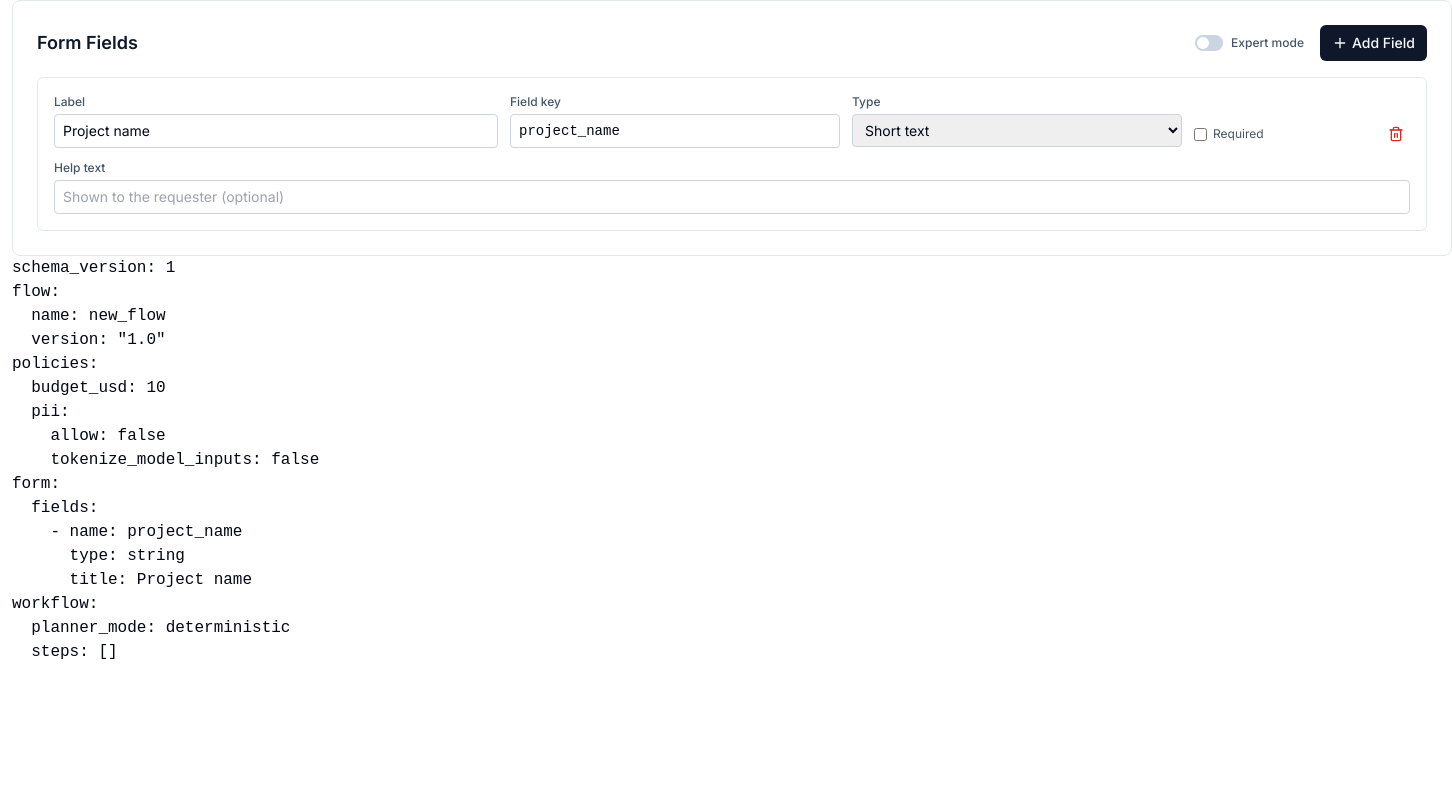
Test case: Intake form editor — business mode › long text compiles to a textarea widget in YAML
Select "Long text" in the dropdown named "Field type" at x=1017, y=130, box [852, 114, 1182, 147]
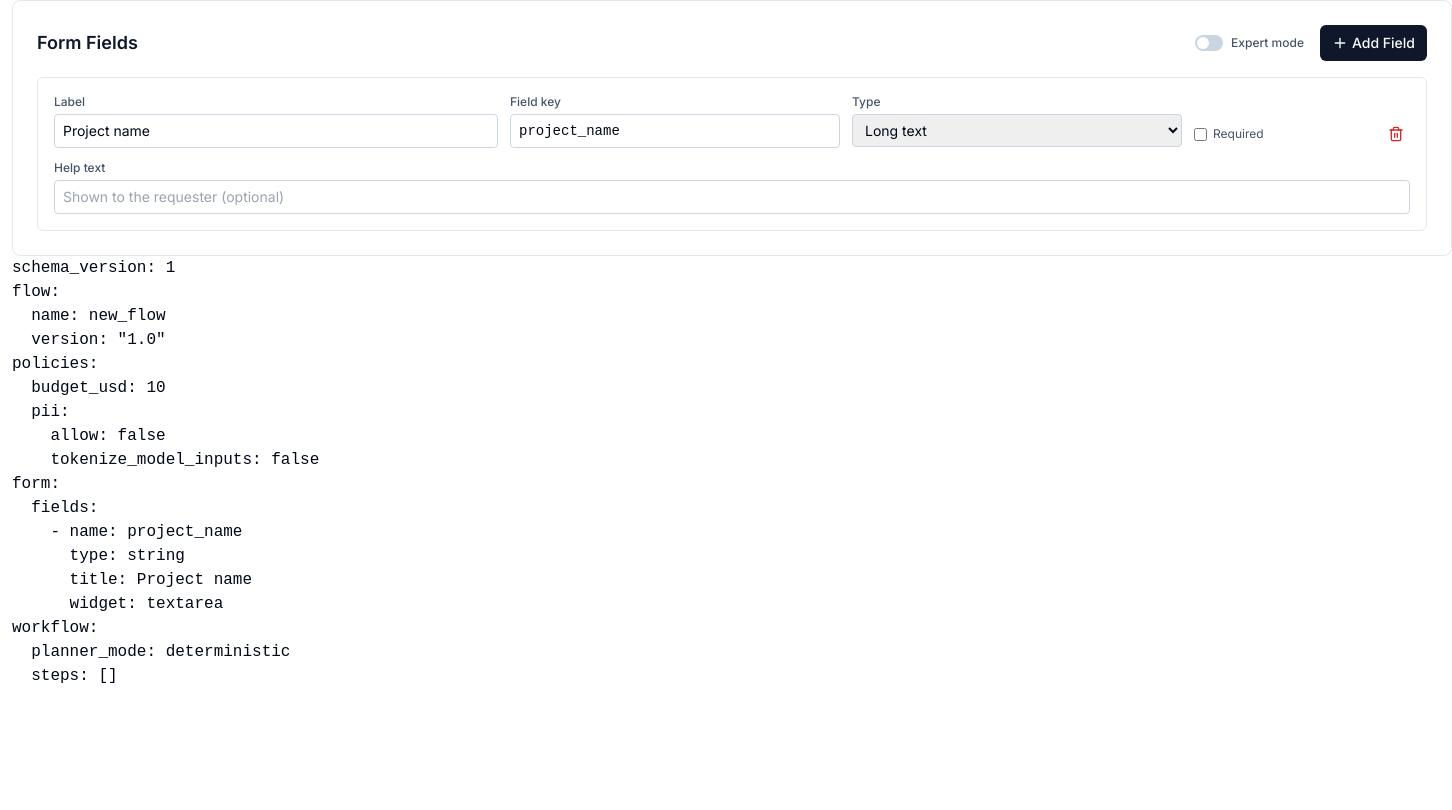
Check: the text with test id "yaml" shows "widget: textarea", box [12, 259, 319, 685]
